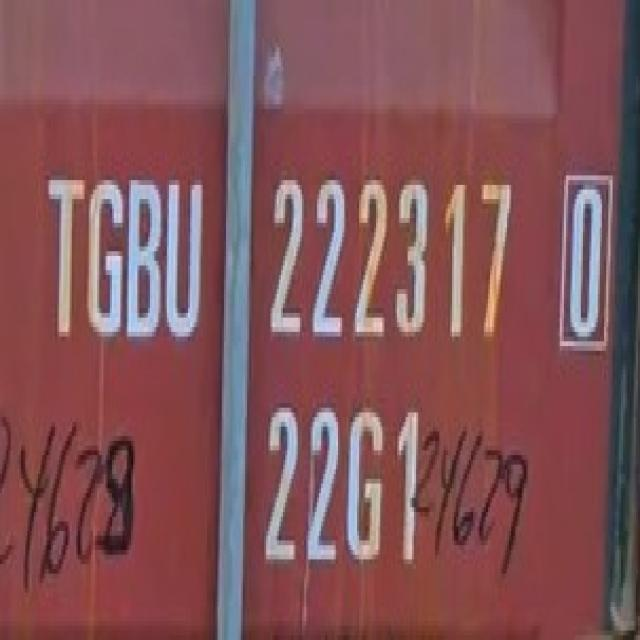dv: (548, 153, 614, 357)
owner: (38, 156, 209, 357)
serial: (263, 150, 518, 370)
size: (253, 380, 434, 578)
